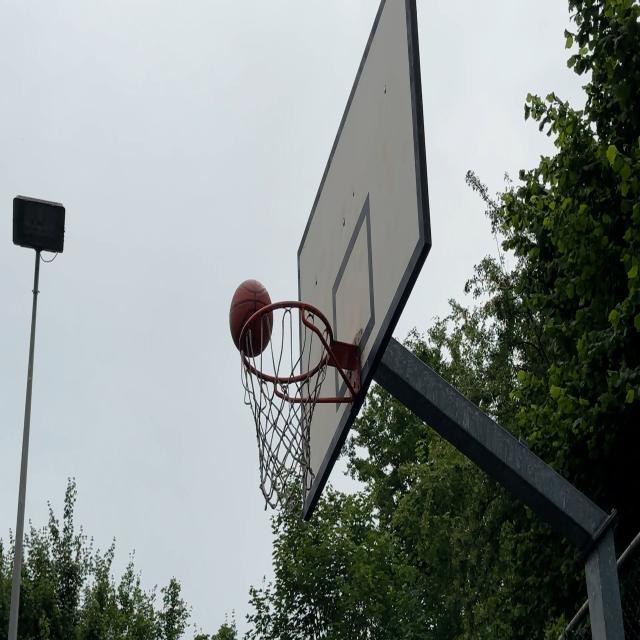rebound_hit: (230, 280, 274, 356)
